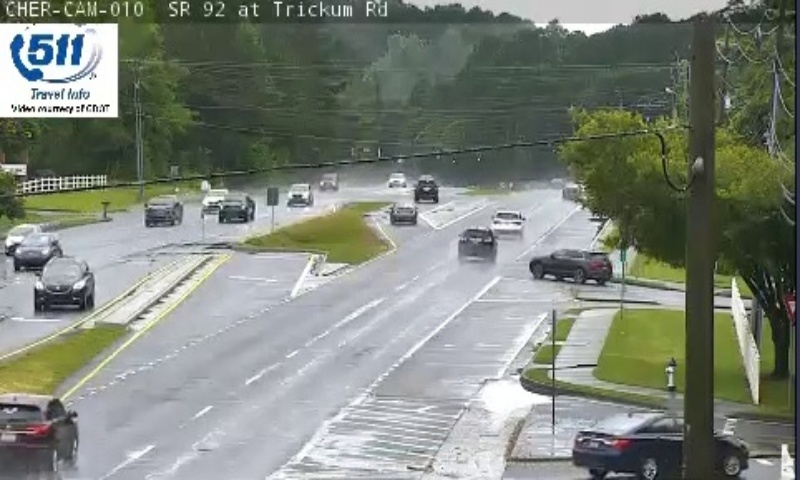car: (1, 391, 76, 458), (458, 227, 497, 258), (491, 209, 521, 236), (390, 200, 416, 221)
